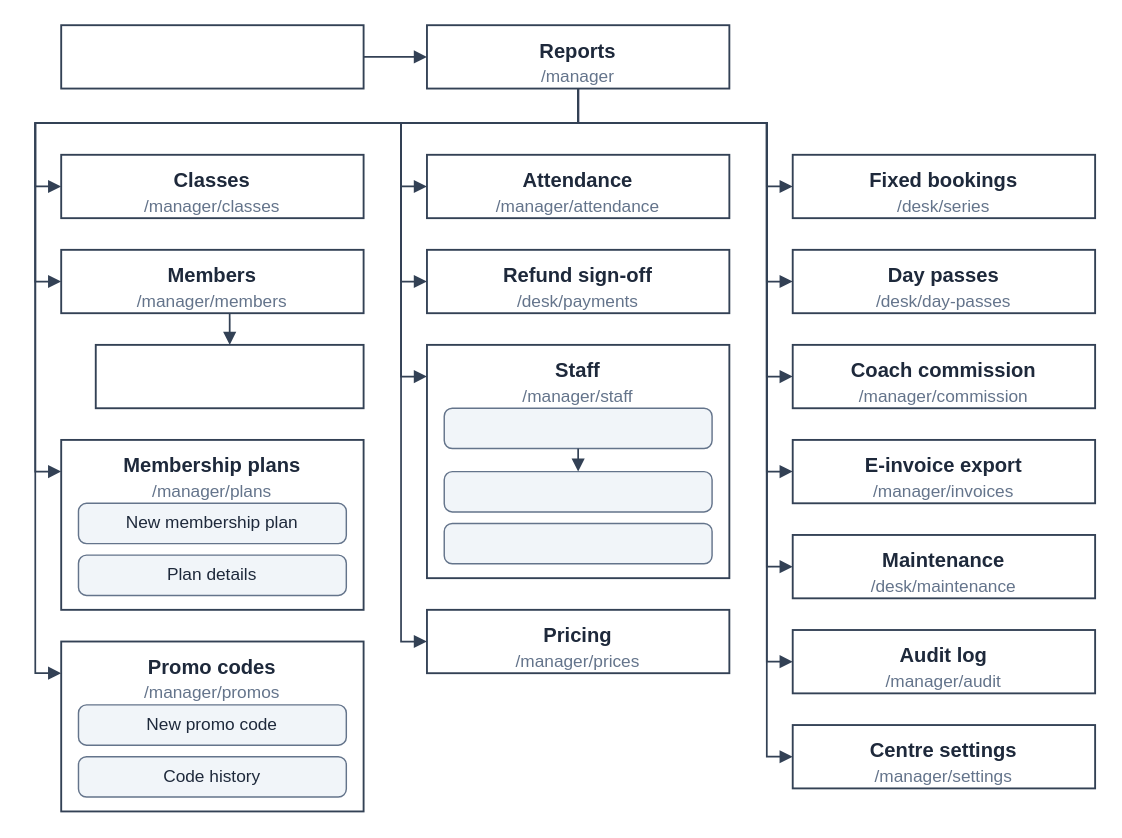
Image size: 1122x838. Some labels were removed from this diagram. Here are the shapes that lost their labels. From the top down, the centre of each, then its label:
At point 212,56: "Sign in /login".
At point 229,376: "Member profile /desk/member/$id".
At point 577,428: "Add staff".
At point 577,491: "Hand this over now".
At point 577,543: "Role and access".
